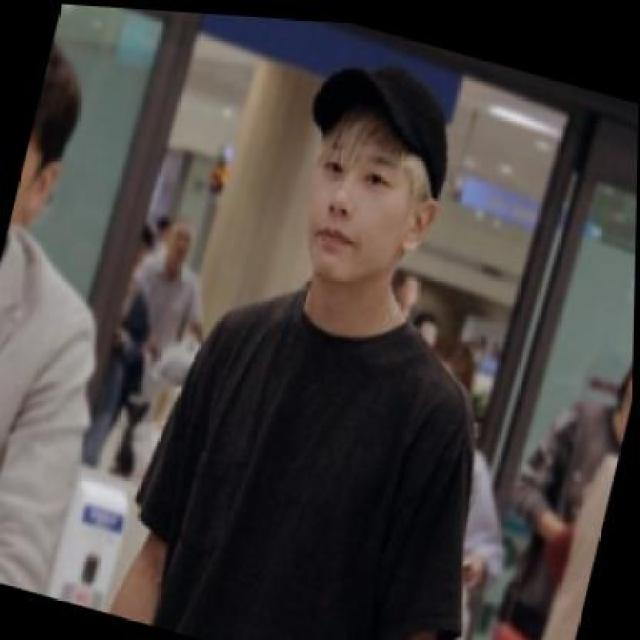hat: (298, 46, 468, 192)
